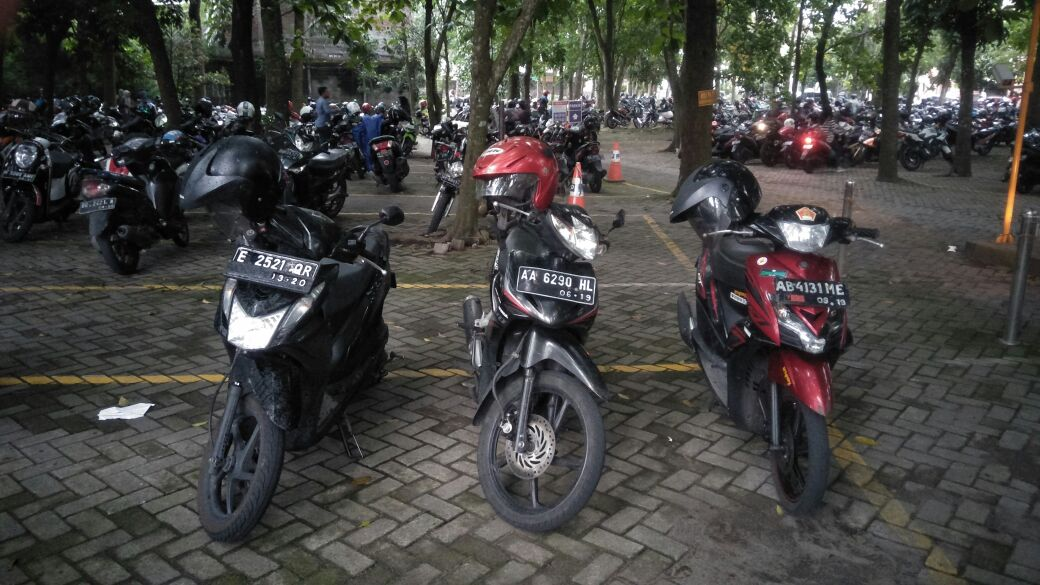plate: (228, 245, 318, 295), (516, 263, 597, 306), (773, 277, 850, 310)
